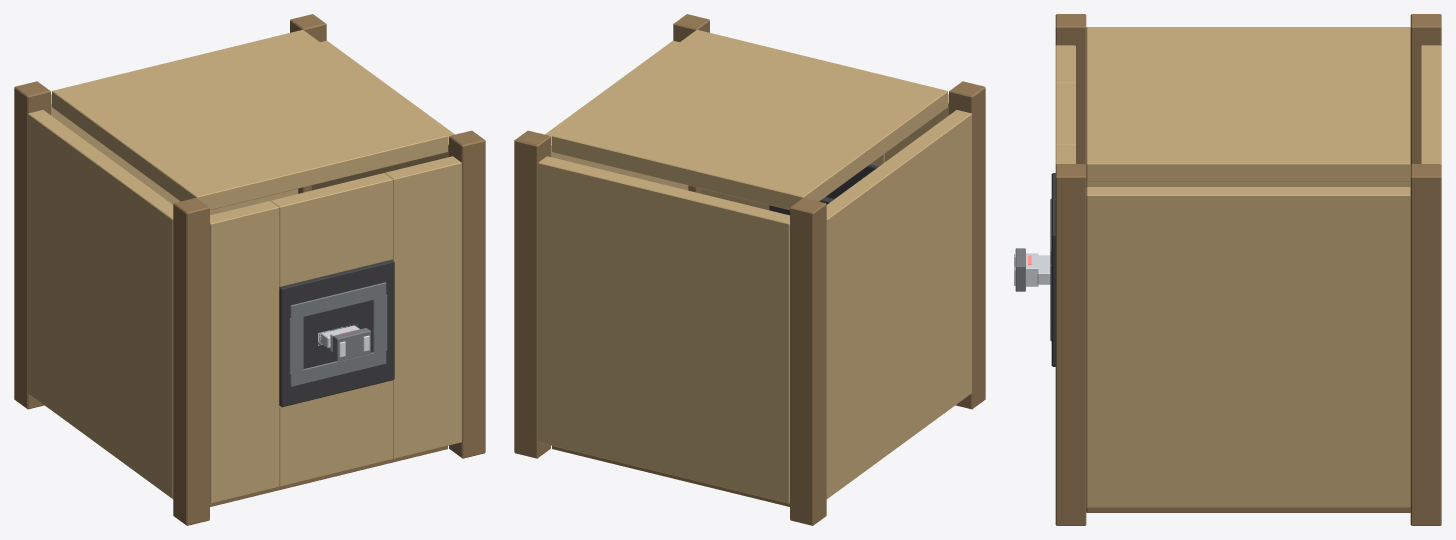
The model's file is FTF_Trap_MimicCrate_MechTongue_3m_v7.glb.
3 renders of one model, left to right at view 1: azimuth 30°, elevation 25°; view 2: azimuth 150°, elevation 25°; view 3: azimuth 270°, elevation 25°, orthographic. The views are drawn at different scales.
Visible parts, largest first — view 1: FTF_Trap_MimicCrate_MechTongue_3m_v7_Static, TongueMesh; view 2: FTF_Trap_MimicCrate_MechTongue_3m_v7_Static; view 3: FTF_Trap_MimicCrate_MechTongue_3m_v7_Static, TongueMesh.
Boxes of the visible parts, x1,y1,x2,y2 form: FTF_Trap_MimicCrate_MechTongue_3m_v7_Static: [14, 14, 485, 525]; TongueMesh: [318, 324, 370, 361]; FTF_Trap_MimicCrate_MechTongue_3m_v7_Static: [514, 14, 985, 525]; FTF_Trap_MimicCrate_MechTongue_3m_v7_Static: [1050, 14, 1441, 525]; TongueMesh: [1014, 248, 1050, 291].
Size of the model in its own units: 3 by 3 by 3.32.
